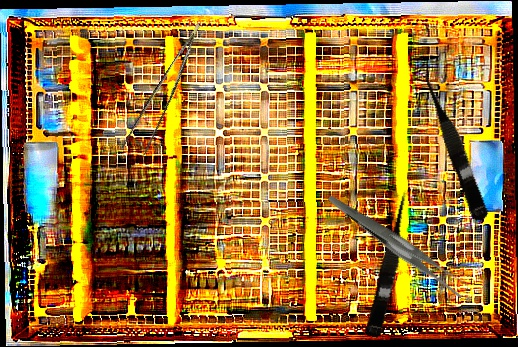Dressing Forceps: (327, 162, 472, 326)
Micro Scissor: (416, 65, 493, 223), (364, 188, 418, 340)
Tissue Forceps: (116, 23, 221, 163)
